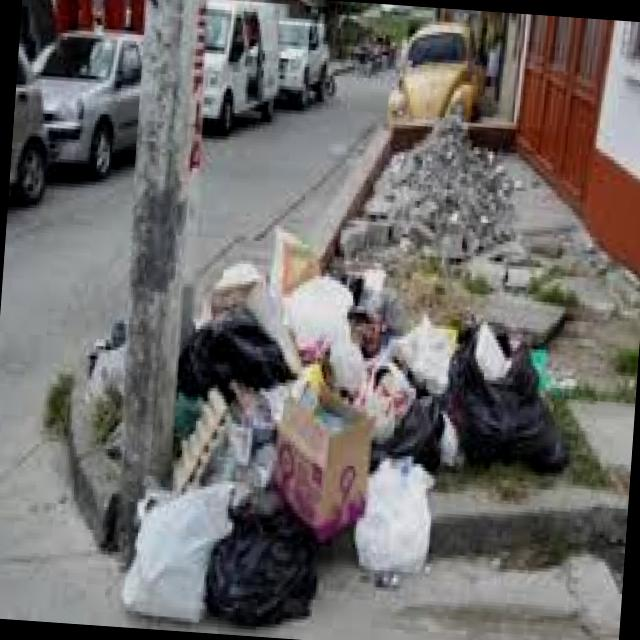garbage: (82, 217, 563, 640)
